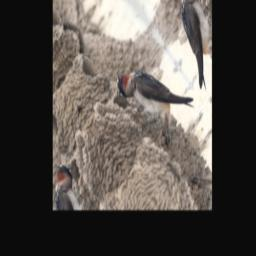Swallow: (111, 28, 199, 157)
